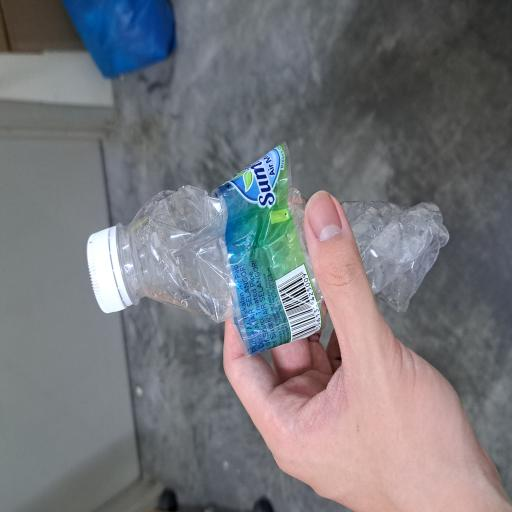plastic bottle: (118, 156, 278, 512)
plastic bottle cap: (149, 115, 214, 170)
